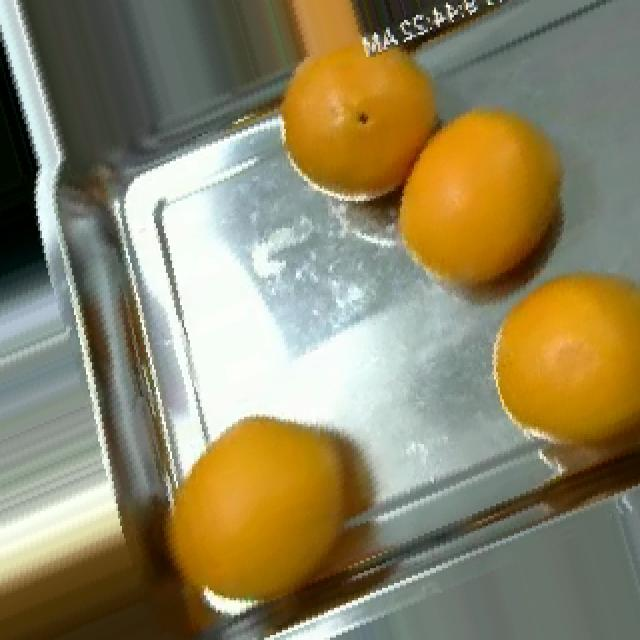Fruit: (256, 37, 434, 226)
